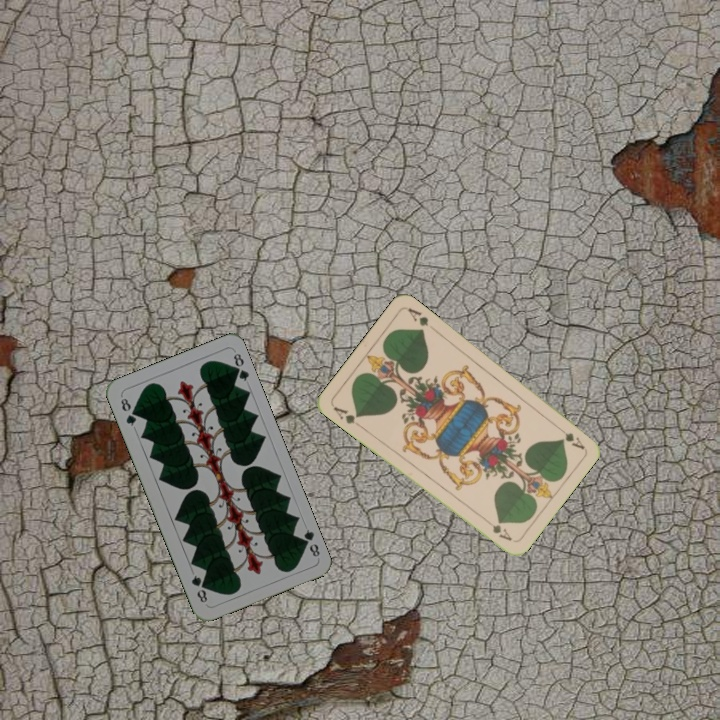G8: (297, 525, 323, 559), (116, 394, 139, 429)
GA: (552, 421, 587, 452), (329, 402, 365, 429)
